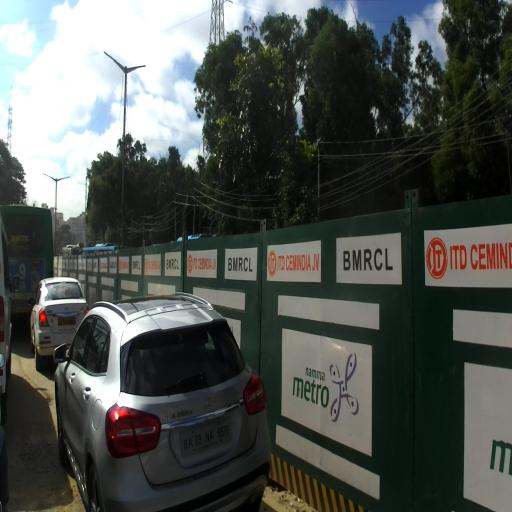street_light_0: (104, 51, 127, 76), (124, 65, 146, 77), (43, 173, 57, 183), (56, 176, 70, 183)
